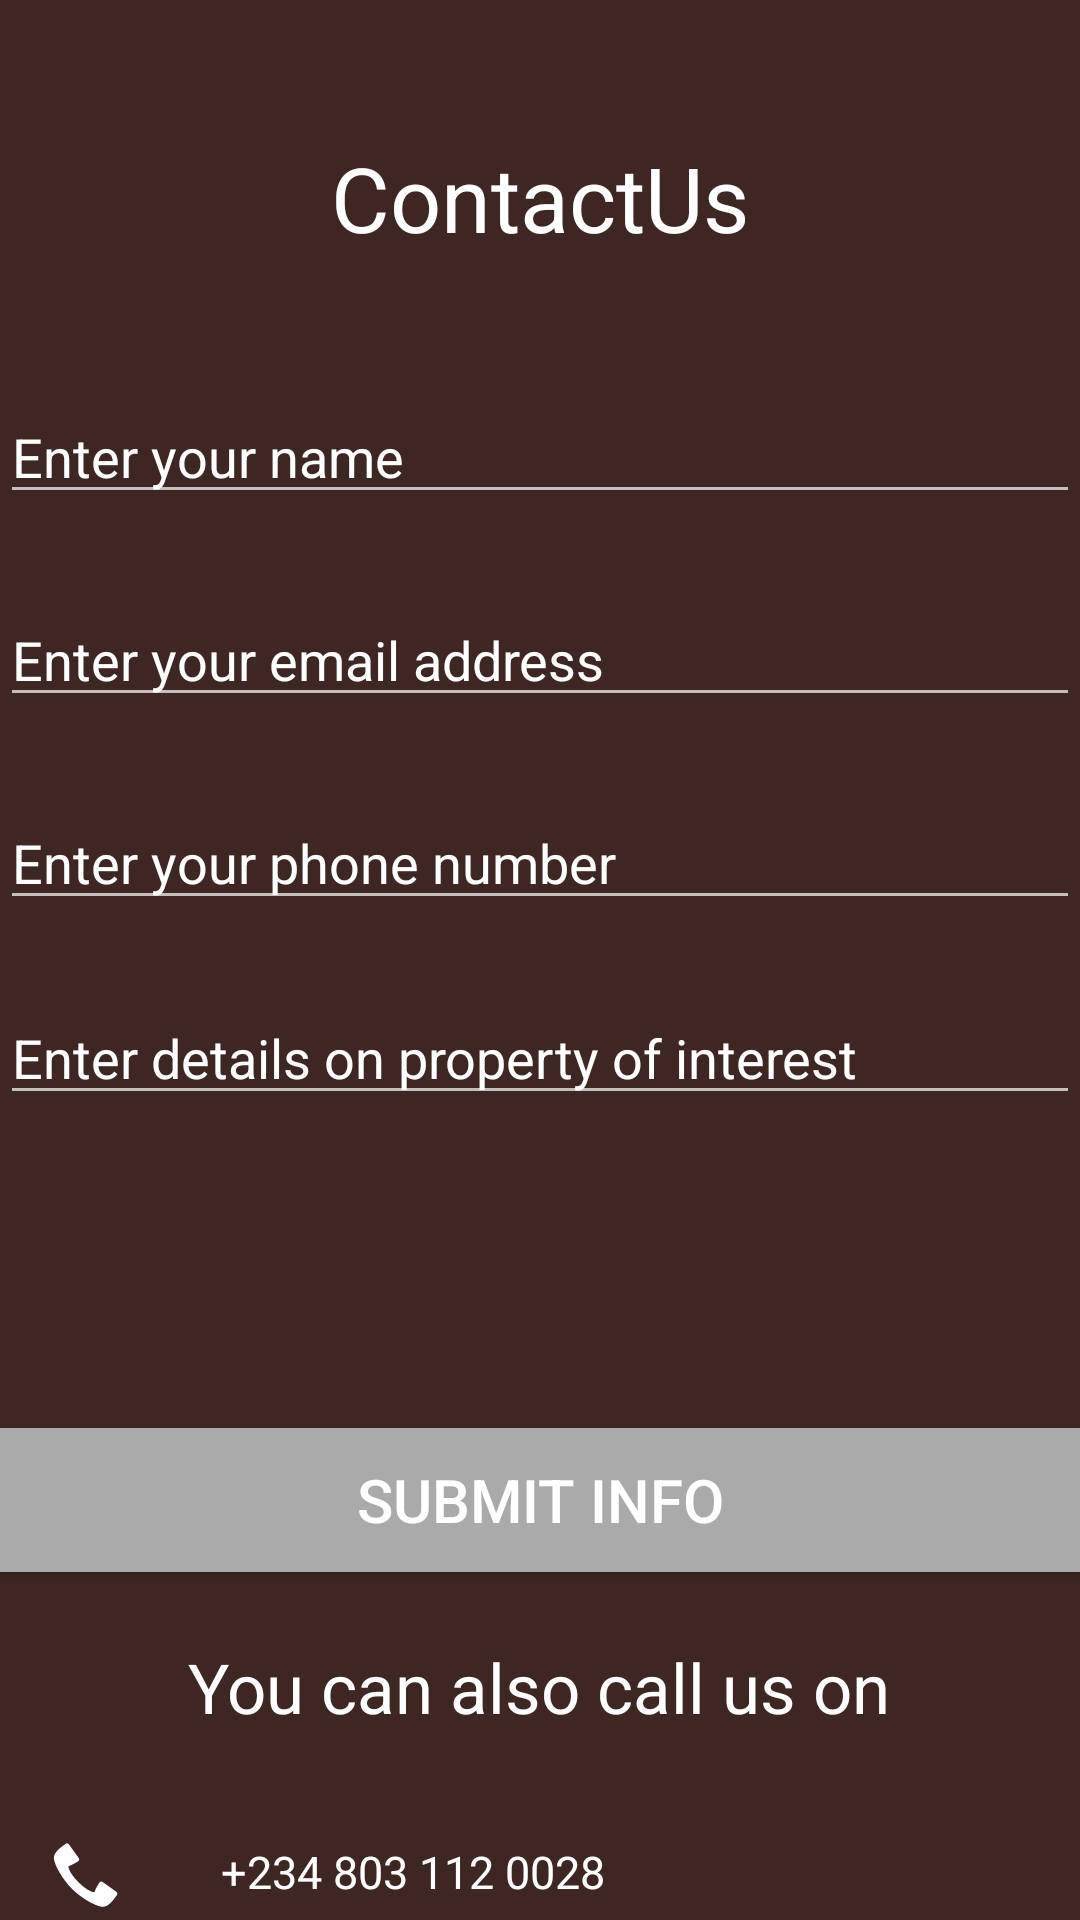

Screen size 1080px x 1920px. Icon name, then its box in pixels as (x1, y1, x2, y2):
phone call: (54, 1843, 118, 1907)
